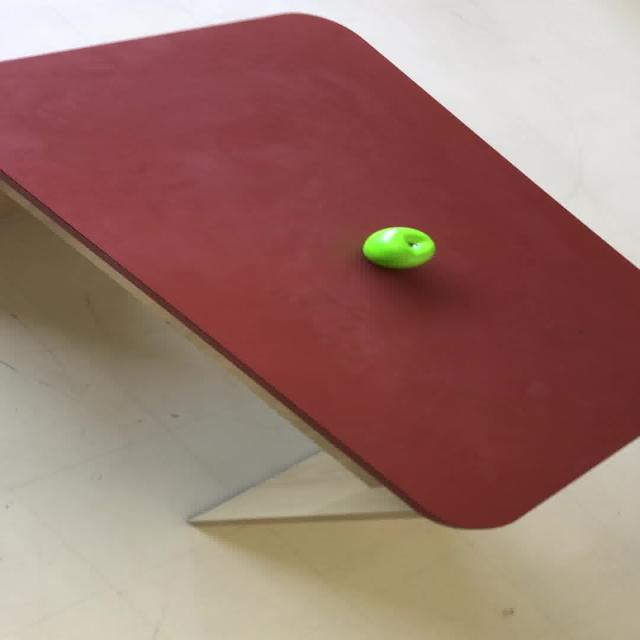apple: (360, 226, 435, 269)
